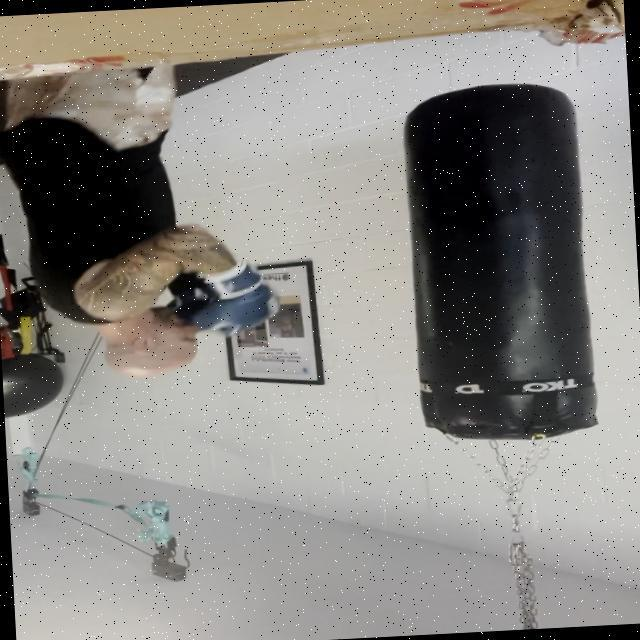bag: (387, 77, 616, 446)
no punch: (28, 222, 294, 392)
